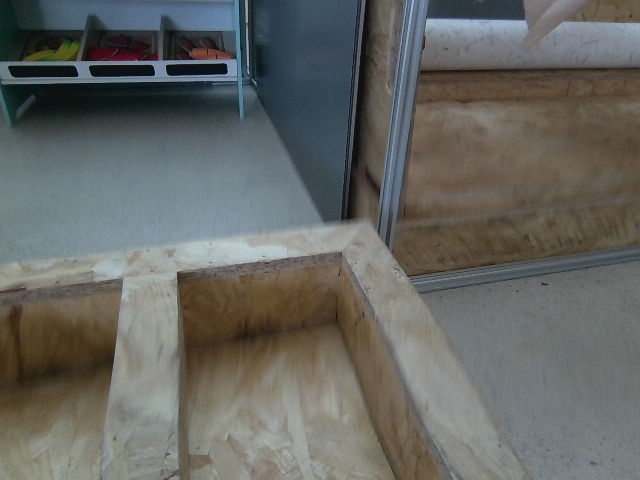curtain: (525, 0, 595, 48)
